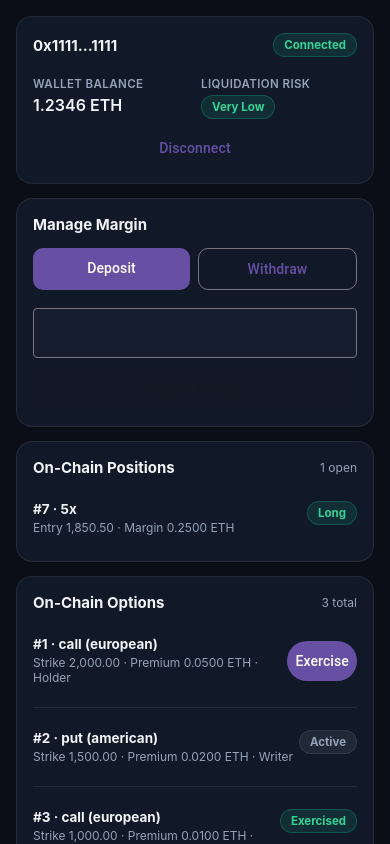
Test: margin and transactions › reports an on-chain failure and does not reload wallet data
This screenshot has width=390, height=844.
Expected: the text "1.2346 ETH" is shown, [33,95,122,115]
Step 1. Type "1" into the field with test id "text-input-outlined" → (195, 334), box [33,310,357,358]
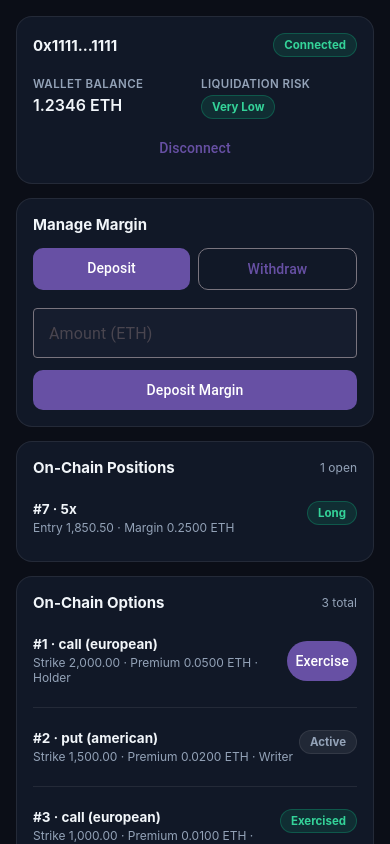
Step 2. Click the button "Deposit Margin" → (195, 390), box [33,370,357,410]
Wait 2000 ms
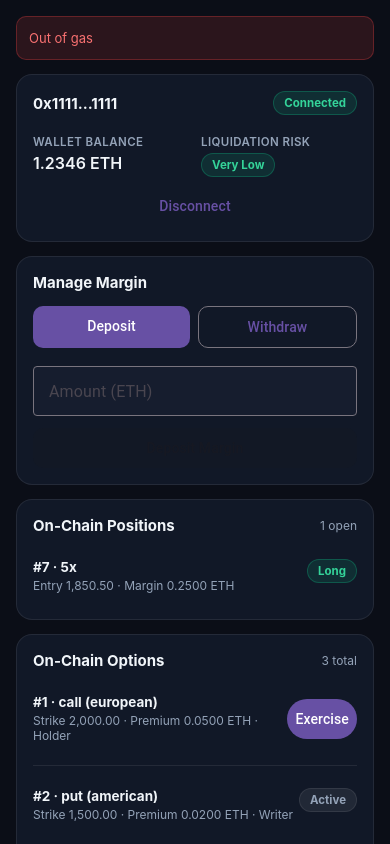
Expected: the text "Out of gas" is shown, [29,30,93,46]
